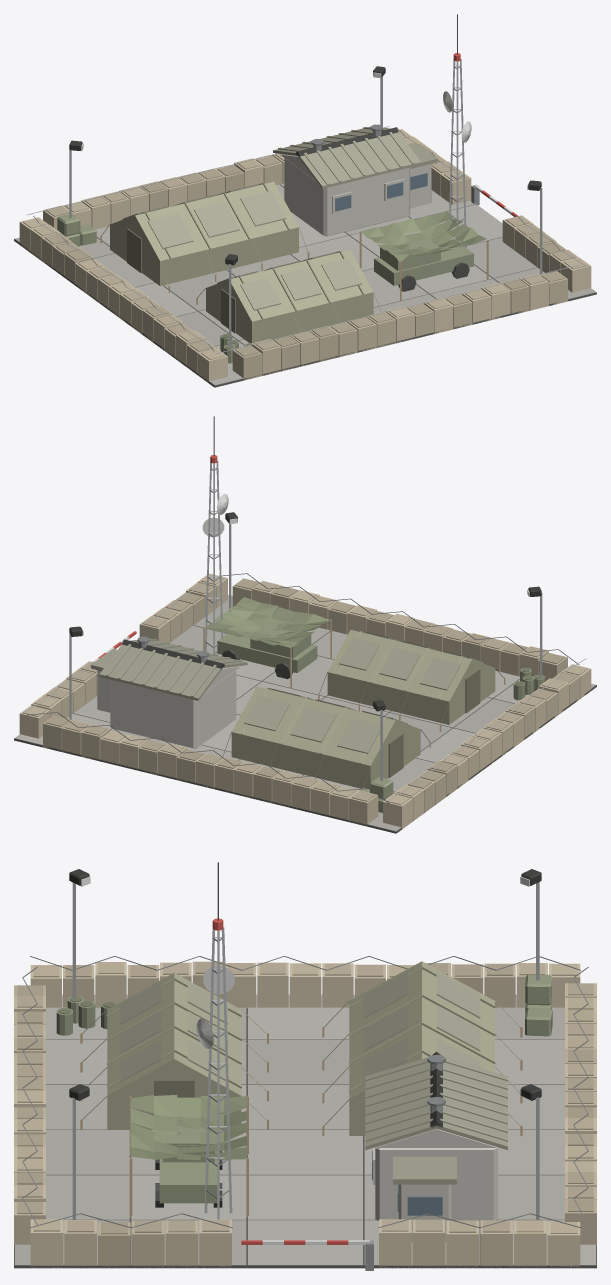
The model's file is b_fhq.glb.
The picture shows the model from 3 angles, top to bottom: view 1: azimuth 30°, elevation 25°; view 2: azimuth 150°, elevation 25°; view 3: azimuth 270°, elevation 25°; orthographic projection. The views are drawn at different scales.
Visible parts, largest first — view 1: hull; view 2: hull; view 3: hull.
Part boxes in pixels (box(x1,y1,x2,y2)): hull: box(14, 14, 596, 387); hull: box(14, 416, 596, 833); hull: box(14, 862, 596, 1270).
Bounding box in the file's own units: 22.2 × 13.5 × 20.
